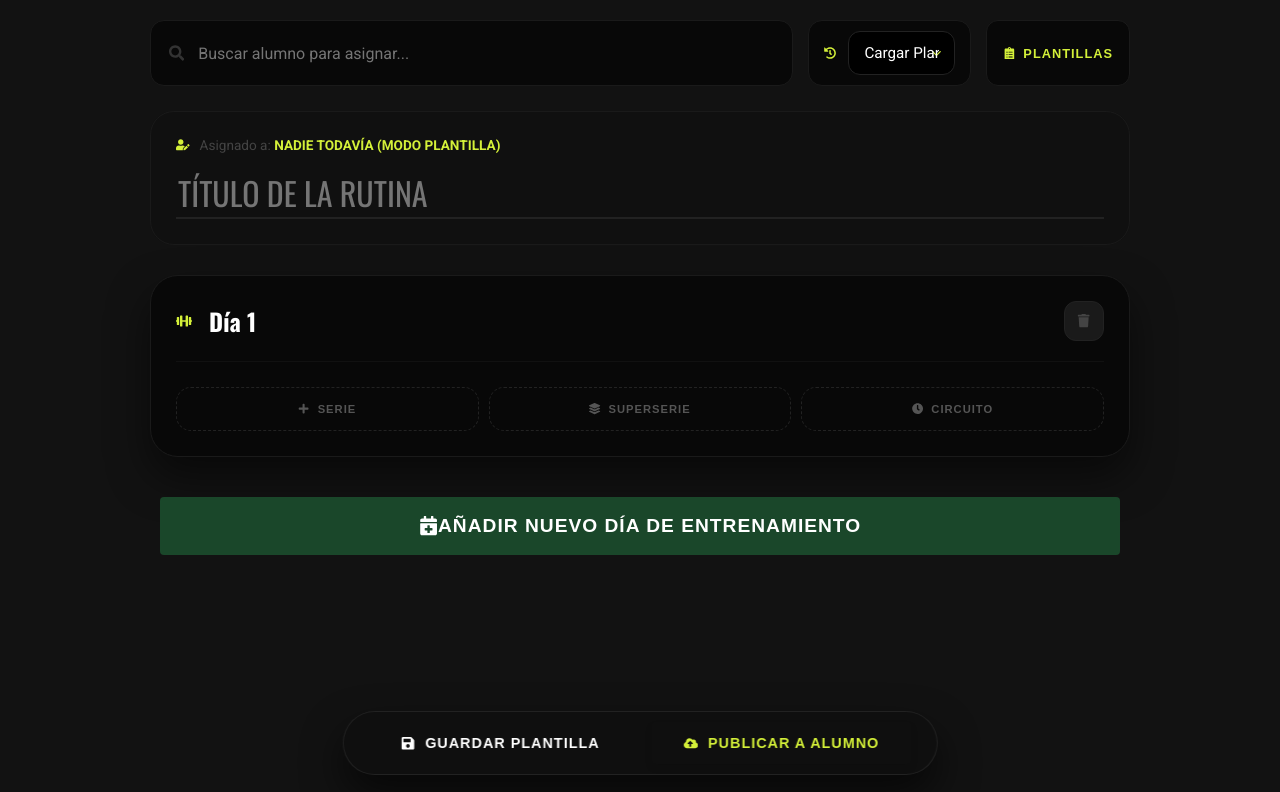
it: AdminDashboard — construir un plan: días, bloques, ejercicios › agrega un bloque "Superserie" y permite añadir un segundo ejercicio
This screenshot has width=1280, height=792.
Click the button "Superserie": (640, 409) [489,387,791,431]
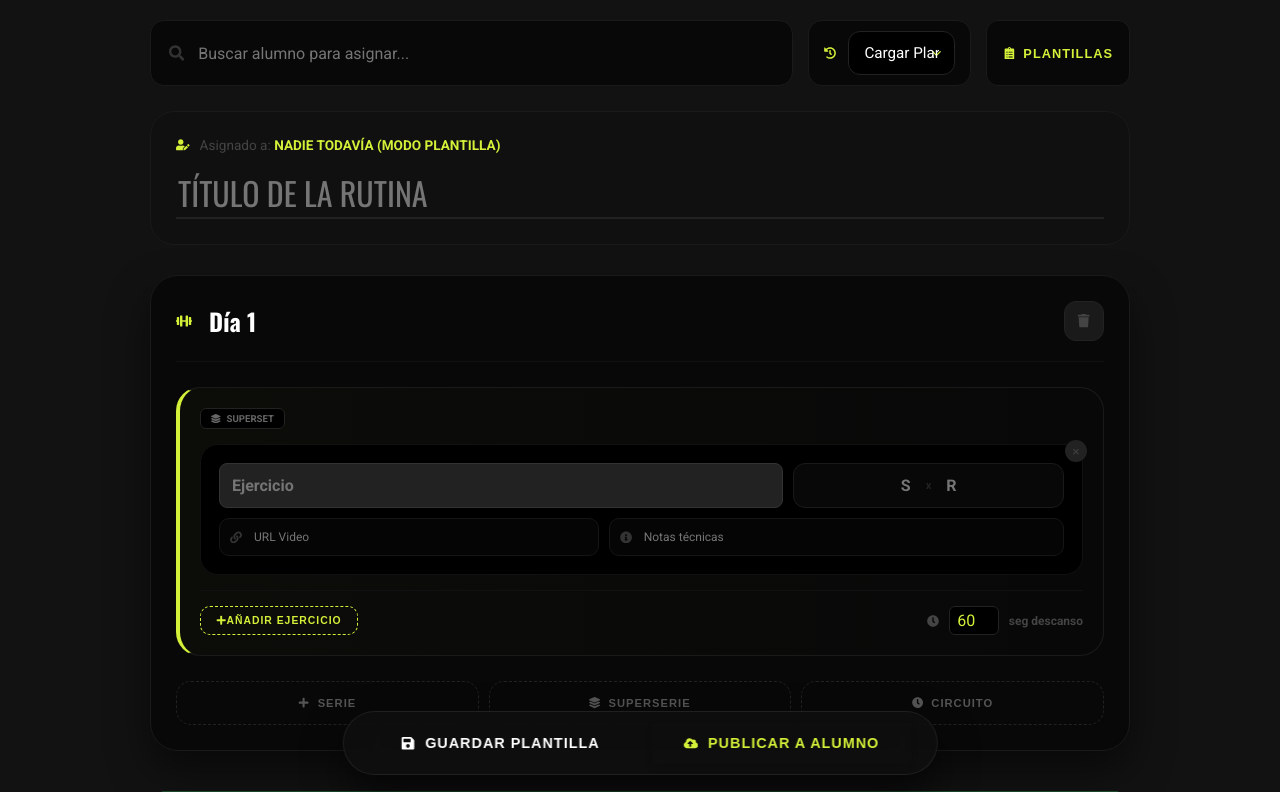
Check: the text "SUPERSET" is shown, box [200,408,285,429]
Click the button "Añadir Ejercicio": (279, 620) [200,606,358,635]
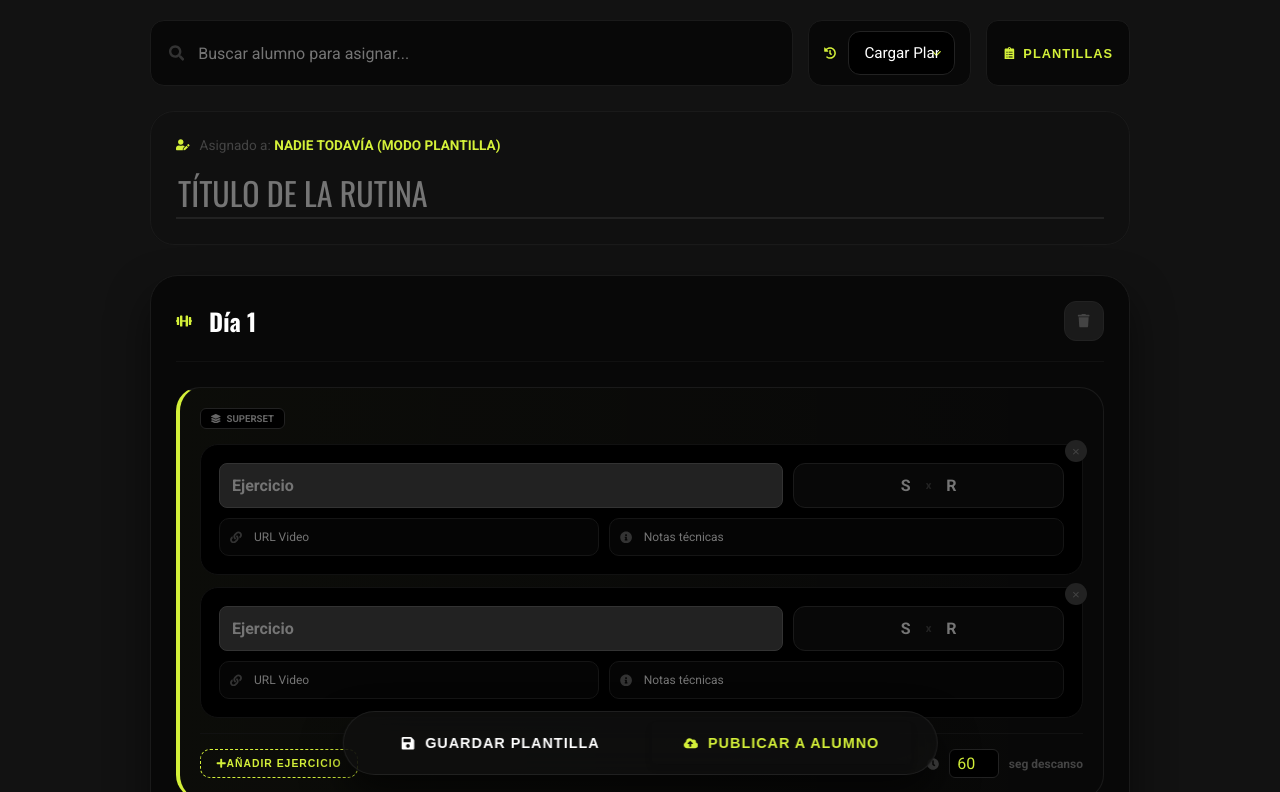
Check: the number of fields with placeholder "Ejercicio" is 2, box [219,463,783,508]; [219,606,783,651]
